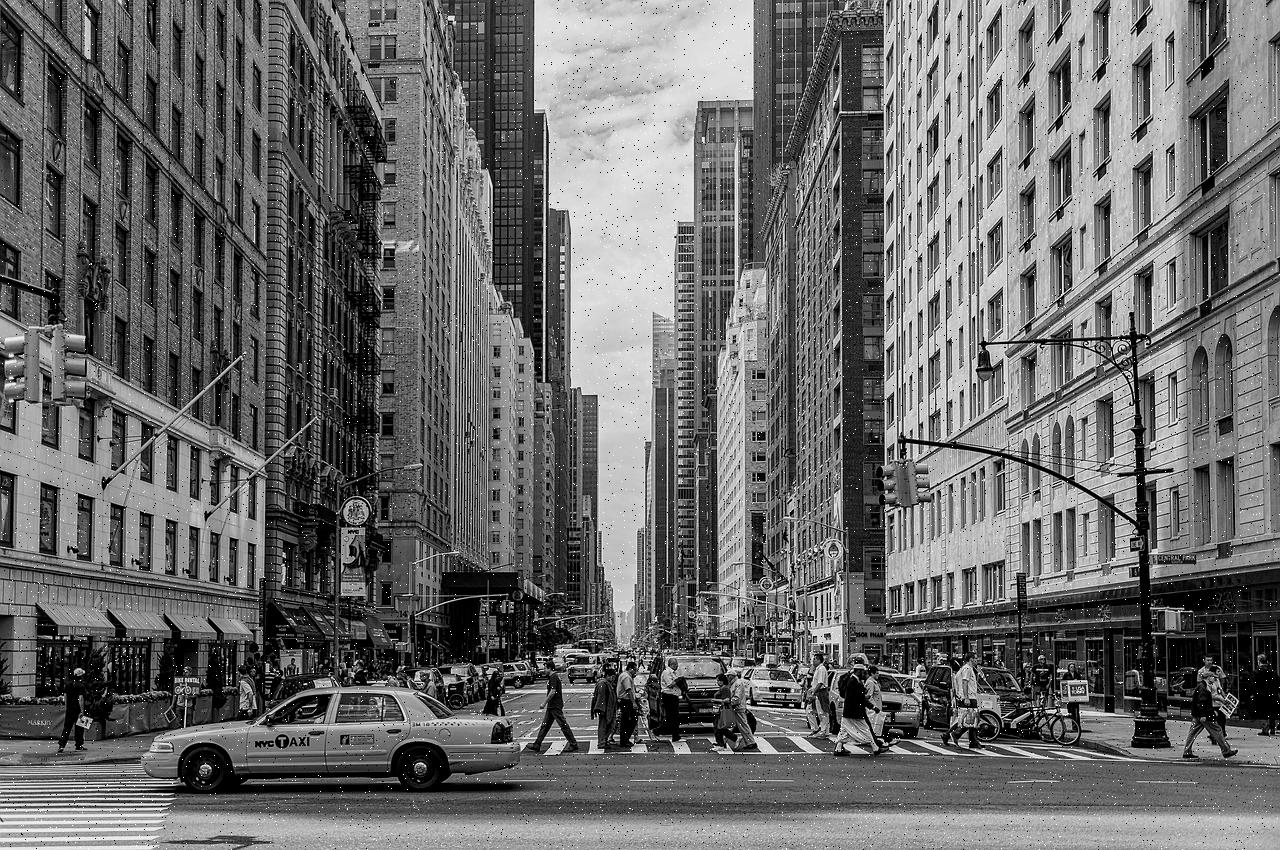car: (141, 690, 523, 799), (648, 652, 729, 731), (873, 673, 931, 742), (432, 664, 498, 707), (743, 668, 804, 710), (555, 646, 606, 685), (501, 659, 549, 688)
pedestrian: (1178, 660, 1234, 762), (831, 661, 887, 757), (527, 665, 583, 756), (946, 656, 995, 753), (708, 677, 760, 756), (614, 664, 648, 750), (1053, 664, 1090, 740), (1248, 660, 1280, 740), (589, 664, 616, 751), (806, 658, 835, 736), (172, 668, 205, 729), (1030, 655, 1058, 706), (236, 670, 258, 722)
